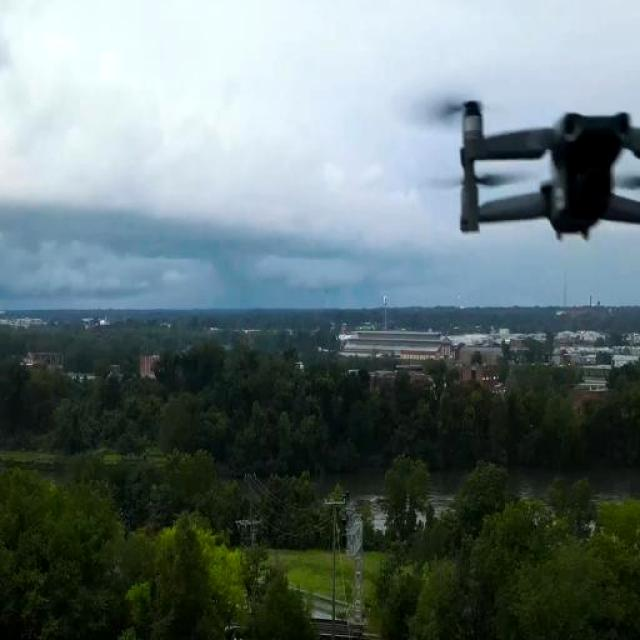bird: (380, 69, 640, 251)
